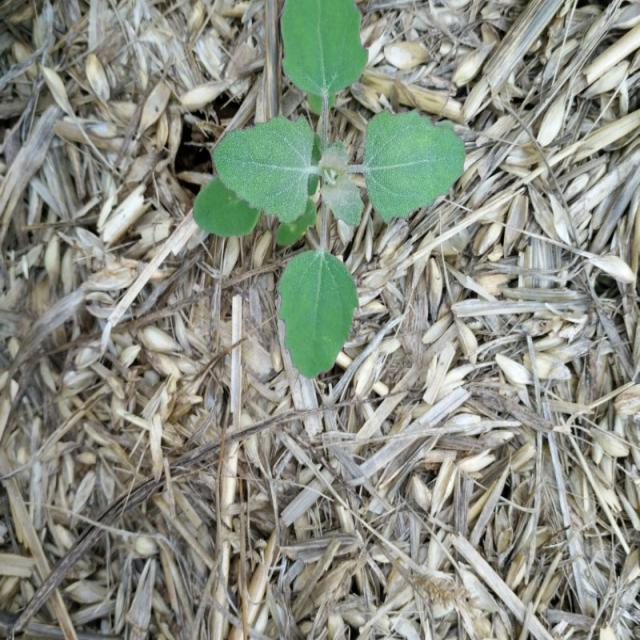goosefoots: (178, 4, 468, 376)
